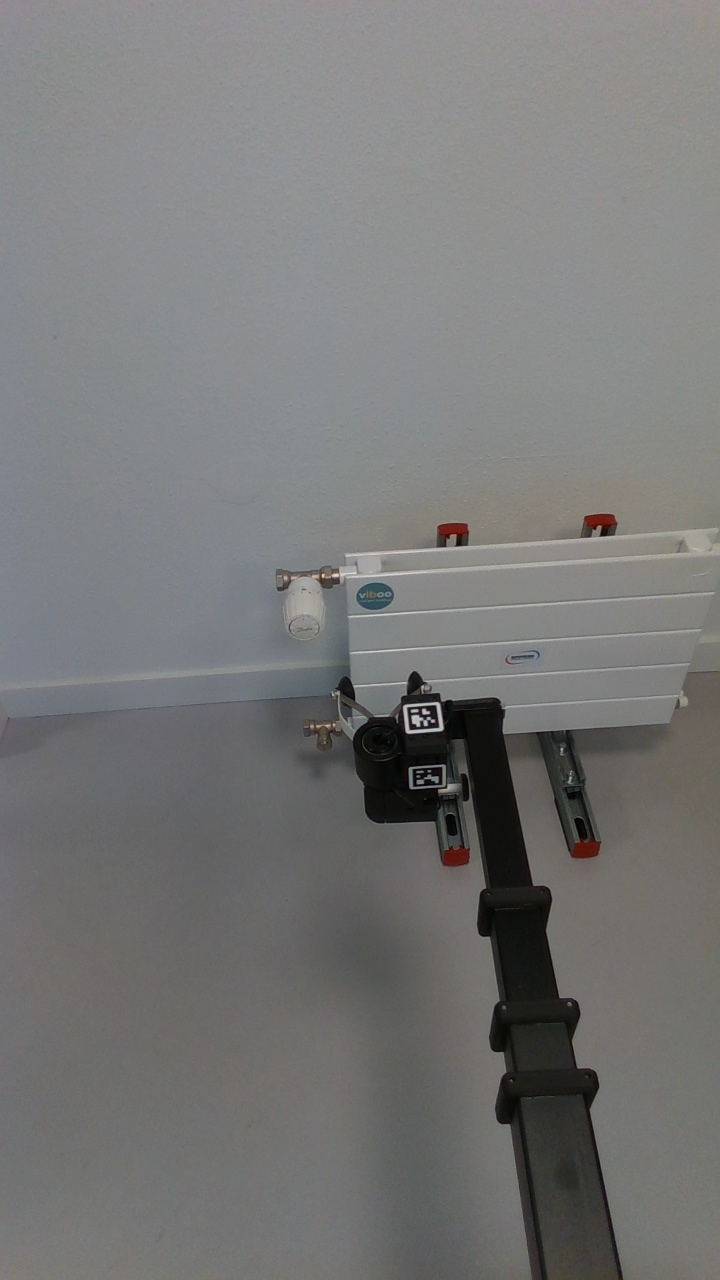Knob_Radiator: (273, 561, 338, 655)
Radiator: (329, 520, 703, 723)
